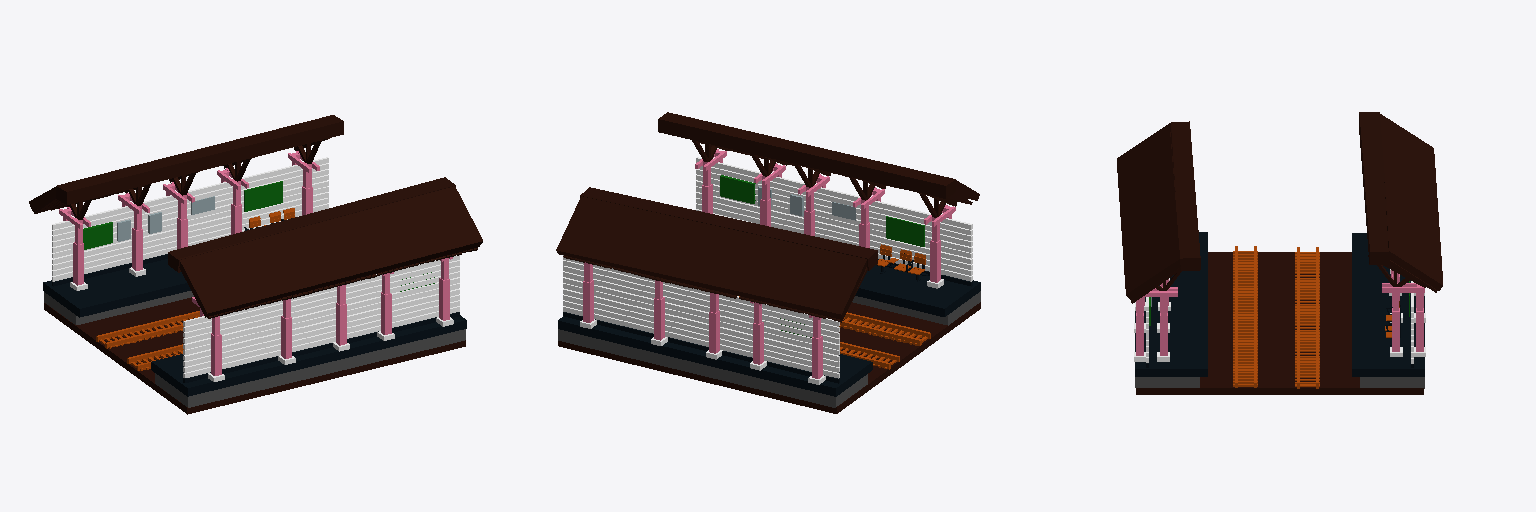
Rendered from gare.obj.
The picture shows the model from 3 angles: view 1: azimuth 30°, elevation 25°; view 2: azimuth 150°, elevation 25°; view 3: azimuth 270°, elevation 25°; orthographic projection.
Parts seen in each view (by area): view 1: group[number redacted], group[number redacted], group[number redacted], group[number redacted], group[number redacted], group[number redacted], group[number redacted], group[number redacted], group[number redacted], group[number redacted], group[number redacted], group[number redacted] (+21 smaller); view 2: group[number redacted], group[number redacted], group[number redacted], group[number redacted], group[number redacted], group[number redacted], group[number redacted], group[number redacted], group[number redacted], group[number redacted], group[number redacted], group[number redacted] (+20 smaller); view 3: group[number redacted], group[number redacted], group[number redacted], group[number redacted], group[number redacted], group[number redacted], group[number redacted], group[number redacted], group[number redacted], group[number redacted], group[number redacted].
Boxes of the visible parts, x1=… form: group[number redacted]: x1=179, y1=186, x2=482, y2=317; group[number redacted]: x1=56, y1=115, x2=343, y2=204; group[number redacted]: x1=44, y1=297, x2=465, y2=414; group[number redacted]: x1=151, y1=315, x2=466, y2=396; group[number redacted]: x1=43, y1=259, x2=190, y2=317; group[number redacted]: x1=155, y1=329, x2=465, y2=407; group[number redacted]: x1=168, y1=177, x2=455, y2=272; group[number redacted]: x1=183, y1=260, x2=459, y2=331; group[number redacted]: x1=96, y1=311, x2=199, y2=348; group[number redacted]: x1=183, y1=266, x2=459, y2=337; group[number redacted]: x1=183, y1=289, x2=459, y2=360; group[number redacted]: x1=183, y1=277, x2=459, y2=349; group[number redacted]: x1=556, y1=195, x2=866, y2=319; group[number redacted]: x1=658, y1=112, x2=955, y2=198; group[number redacted]: x1=558, y1=302, x2=980, y2=413; group[number redacted]: x1=558, y1=316, x2=872, y2=396; group[number redacted]: x1=558, y1=329, x2=867, y2=407; group[number redacted]: x1=855, y1=265, x2=980, y2=316; group[number redacted]: x1=580, y1=187, x2=877, y2=270; group[number redacted]: x1=739, y1=296, x2=930, y2=345; group[number redacted]: x1=563, y1=260, x2=839, y2=332; group[number redacted]: x1=563, y1=266, x2=839, y2=337; group[number redacted]: x1=563, y1=289, x2=839, y2=361; group[number redacted]: x1=696, y1=192, x2=972, y2=264; group[number redacted]: x1=1136, y1=252, x2=1423, y2=394; group[number redacted]: x1=1117, y1=123, x2=1180, y2=301; group[number redacted]: x1=1380, y1=114, x2=1442, y2=290; group[number redacted]: x1=1352, y1=233, x2=1424, y2=376; group[number redacted]: x1=1135, y1=232, x2=1207, y2=376; group[number redacted]: x1=1233, y1=246, x2=1257, y2=387; group[number redacted]: x1=1359, y1=112, x2=1390, y2=264; group[number redacted]: x1=1295, y1=247, x2=1319, y2=388; group[number redacted]: x1=1169, y1=121, x2=1200, y2=271; group[number redacted]: x1=1360, y1=377, x2=1424, y2=388; group[number redacted]: x1=1135, y1=377, x2=1199, y2=387.
Bounding box in the file's own units: 4.58 × 2.08 × 4.31.